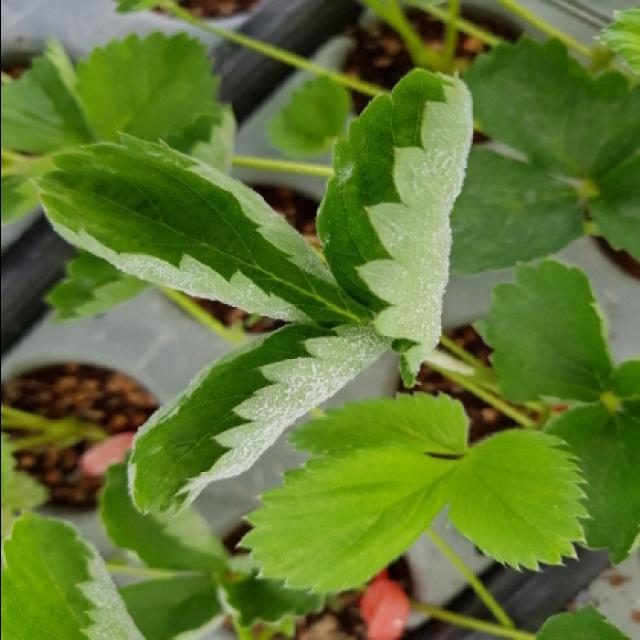Powdery Mildew Leaf: (28, 127, 374, 326), (125, 319, 392, 521), (314, 65, 473, 389), (2, 504, 148, 640)
